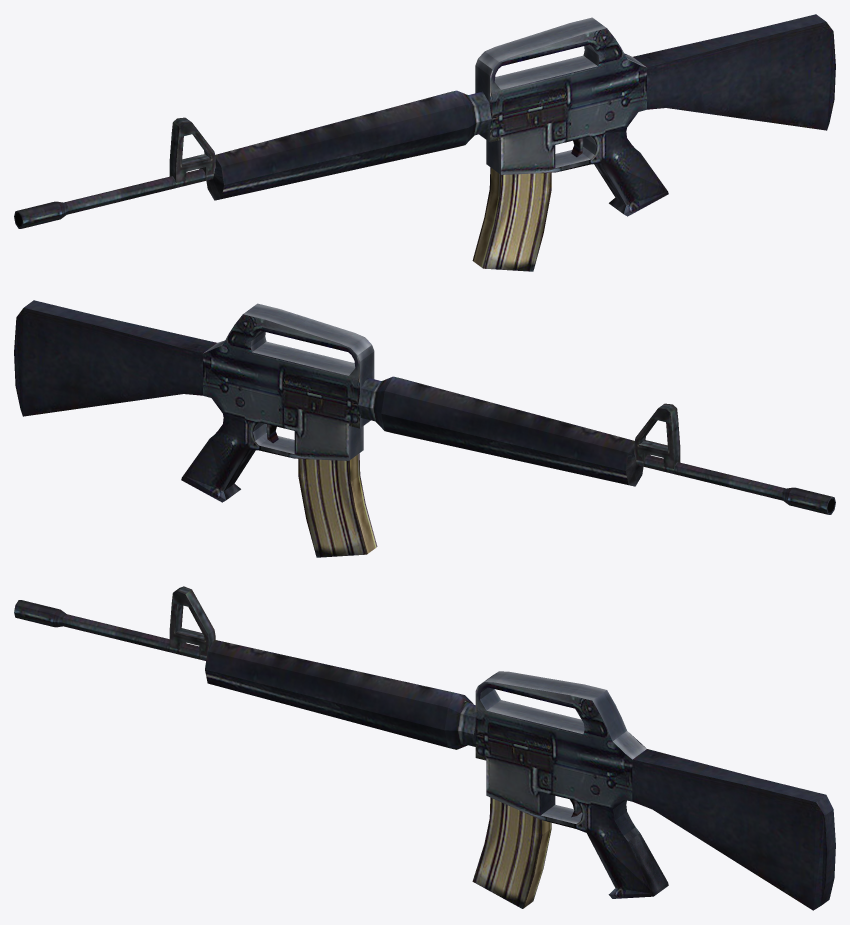
Rendered from m16Maya.obj.
The picture shows the model from 3 angles, top to bottom: view 1: azimuth 30°, elevation 25°; view 2: azimuth 150°, elevation 25°; view 3: azimuth 330°, elevation 25°; orthographic projection.
Visible parts, largest first — view 1: m16:mesh01, m16:mesh02, m16:mesh04, m16:mesh03; view 2: m16:mesh01, m16:mesh02, m16:mesh04, m16:mesh03; view 3: m16:mesh01, m16:mesh02, m16:mesh04, m16:mesh03.
Part boxes in pixels (x1,y1,x2,y2): m16:mesh01: (475,14,835,216); m16:mesh02: (14,90,491,228); m16:mesh04: (472,167,551,271); m16:mesh03: (169,117,215,182); m16:mesh01: (14,300,374,502); m16:mesh02: (358,376,835,514); m16:mesh04: (298,453,377,557); m16:mesh03: (634,403,680,468); m16:mesh01: (475,671,835,910); m16:mesh02: (14,600,475,749); m16:mesh04: (472,797,551,908); m16:mesh03: (169,586,215,655).
Bounding box in the file's own units: 15.16 × 4.13 × 0.7795.
1 material, 1 textured.
